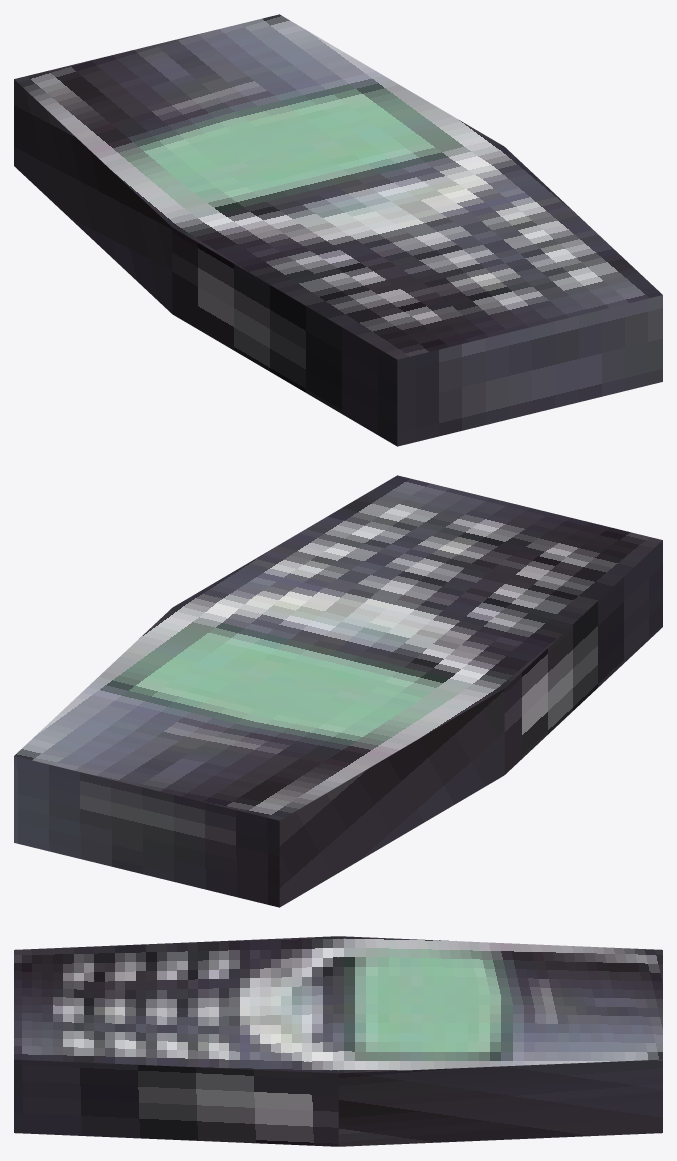
File: nokia-3310.glb
3 views of the same model, one above another, from view 1: azimuth 30°, elevation 25°; view 2: azimuth 150°, elevation 25°; view 3: azimuth 270°, elevation 25° (orthographic). The views are drawn at different scales.
Parts seen in each view (by area): view 1: Cube; view 2: Cube; view 3: Cube.
Part boxes in pixels (x1=…): Cube: x1=14, y1=14, x2=662, y2=446; Cube: x1=14, y1=475, x2=662, y2=907; Cube: x1=14, y1=936, x2=662, y2=1146.
Bounding box in the file's own units: 2 × 0.5 × 4.
Materials: 1 (1 with a texture image).
